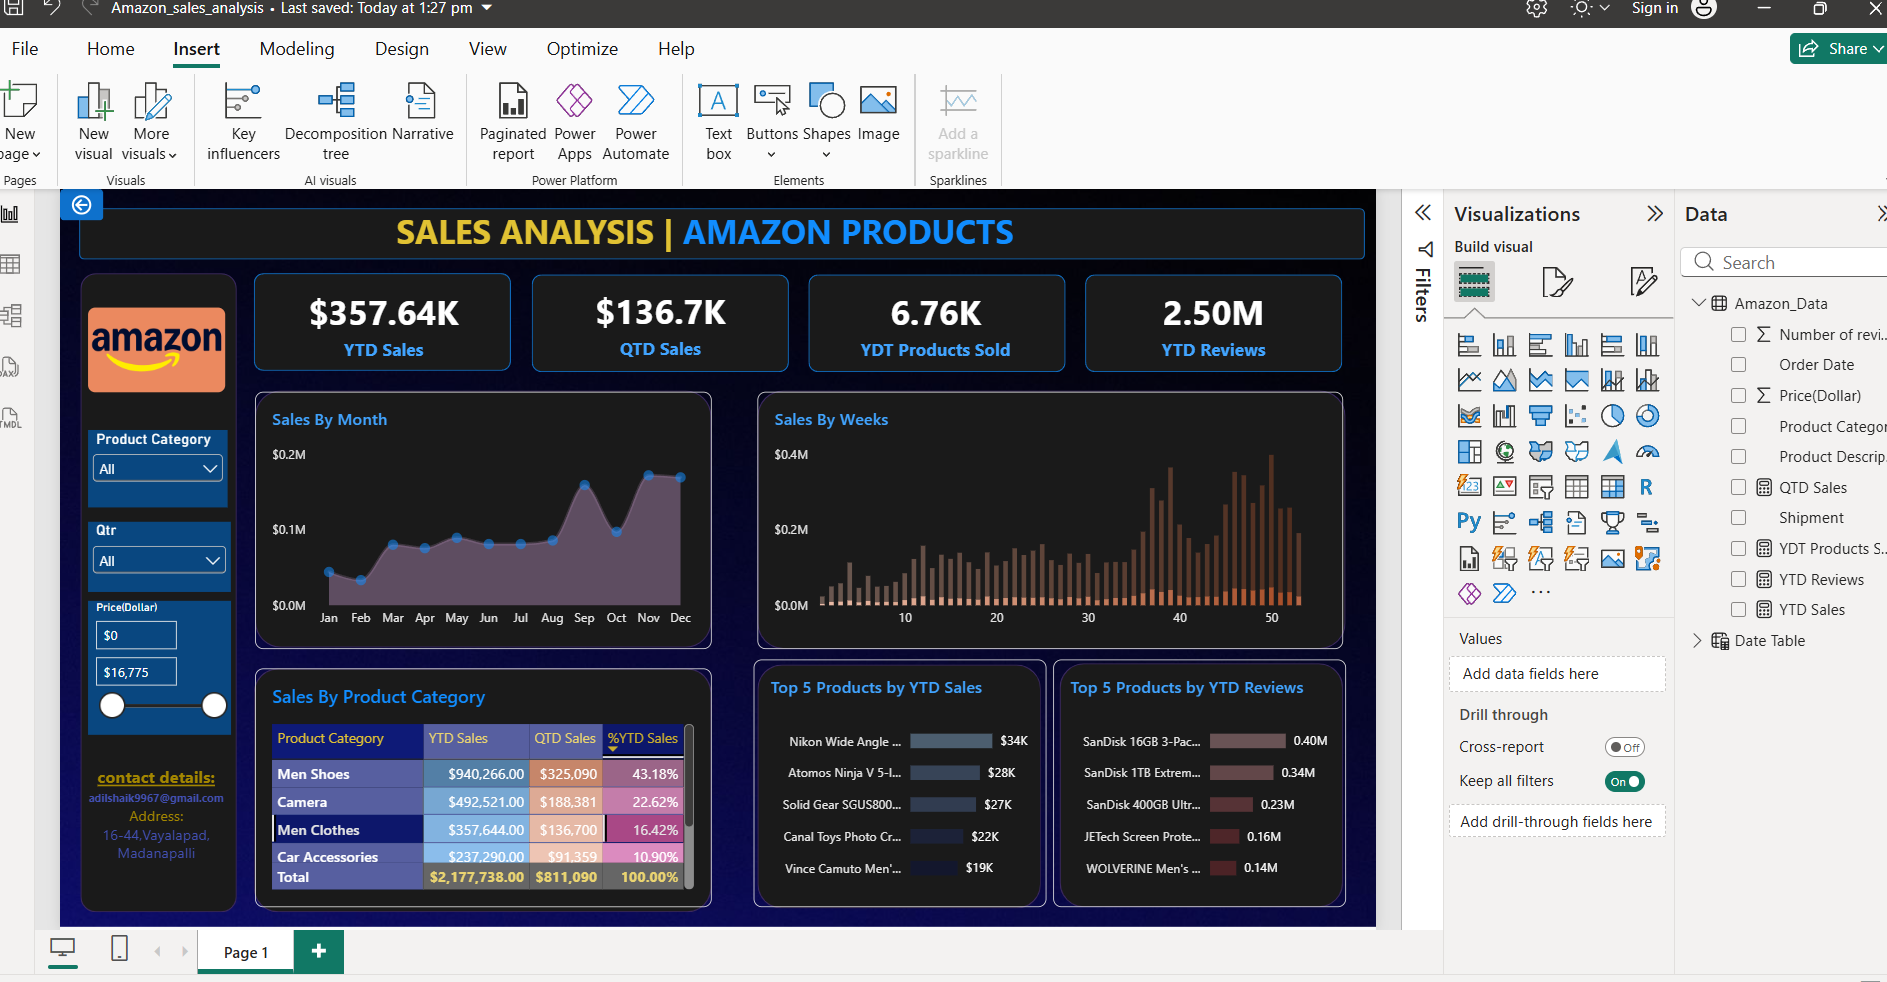

The page's visual inventory and layout, read from the dashboard file:
{"tool":"powerbi","page":{"name":"Page 1","canvas":[1280,720],"ordinal":0},"visuals":[{"type":"shape","box":[19.8,82.2,152,621.3],"z":0},{"type":"shape","box":[458.3,82.7,250,95],"z":1000},{"type":"shape","box":[18.7,18.7,1250,50],"z":2000},{"type":"shape","box":[188.9,82.1,250,95],"z":3000},{"type":"slicer","fields":{"Values":["Amazon_Data.Product Category"]},"box":[26.9,233.8,136,75.1],"z":4000},{"type":"textbox","box":[326.7,18.7,613.3,50.7],"z":5000},{"type":"card","fields":{"Values":["Amazon_Data.YTD Sales"]},"box":[189.5,82.7,250,94.9],"z":6000},{"type":"card","fields":{"Values":["Amazon_Data.QTD Sales"]},"box":[458.7,82.7,250,93.6],"z":7000},{"type":"shape","box":[727.7,82.7,250,95],"z":8000},{"type":"shape","box":[997.1,82.7,250,95],"z":9000},{"type":"card","fields":{"Values":["Amazon_Data.YDT Products Sold"]},"box":[726.6,82.7,250,94.9],"z":10000},{"type":"card","fields":{"Values":["Amazon_Data.YTD Reviews"]},"box":[997.1,82.7,250,94.9],"z":11000},{"type":"shape","box":[189.7,196.2,443.6,250],"z":12000},{"type":"areaChart","title":"Sales By Month","fields":{"Category":["Date Table.Month Name"],"Y":["Sum(Amazon_Data.Price(Dollar))"]},"box":[189.7,197.4,443.6,250],"z":13000},{"type":"shape","box":[678.2,196.2,571.8,251.3],"z":14000},{"type":"columnChart","title":"Sales By Weeks","fields":{"Category":["Date Table.Week"],"Y":["Sum(Amazon_Data.Price(Dollar))"]},"box":[678.2,197.4,569.2,250],"z":15000},{"type":"shape","box":[188.5,466.7,444.9,237.2],"z":16000},{"type":"pivotTable","title":"Sales By Product Category","fields":{"Rows":["Amazon_Data.Product Category"],"Values":["Amazon_Data.YTD Sales1","Amazon_Data.QTD Sales","Amazon_Data.YTD Sales"]},"box":[189.7,466.7,443.6,232.1],"z":17000},{"type":"shape","box":[678.2,462.8,275.6,237.2],"z":18000},{"type":"shape","box":[971.8,461.5,275.6,237.2],"z":19000},{"type":"clusteredBarChart","title":"Top 5 Products by YTD Sales","fields":{"Category":["Amazon_Data.Product Description"],"Y":["Amazon_Data.YTD Sales"]},"box":[674.4,457.7,284.6,241],"z":20000},{"type":"clusteredBarChart","title":"Top 5 Products by YTD Reviews","fields":{"Category":["Amazon_Data.Product Description"],"Y":["Amazon_Data.YTD Reviews"]},"box":[965.4,457.7,284.6,241],"z":21000},{"type":"actionButton","box":[0,0,42.3,30.8],"z":22000},{"type":"slicer","fields":{"Values":["Date Table.Qtr"]},"box":[26.9,323,138.8,68],"z":23000},{"type":"image","box":[26.9,114.8,133.2,82.2],"z":24000},{"type":"slicer","fields":{"Values":["Amazon_Data.Price(Dollar)"]},"box":[27.3,400.4,138.8,130.1],"z":24001},{"type":"textbox","box":[27.3,560.3,132.6,126.4],"z":24002}]}

Visuals, with their boxes on the page's 1280x720 design canvas (x1, y1, x2, y2). These are canvas units, not pixel positions in the 1887x982 screenshot, which may show the page scaled, cropped or inside an application window:
shape: {"x1": 20, "y1": 82, "x2": 172, "y2": 704}
shape: {"x1": 458, "y1": 83, "x2": 708, "y2": 178}
shape: {"x1": 19, "y1": 19, "x2": 1269, "y2": 69}
shape: {"x1": 189, "y1": 82, "x2": 439, "y2": 177}
slicer - Amazon_Data.Product Category: {"x1": 27, "y1": 234, "x2": 163, "y2": 309}
textbox: {"x1": 327, "y1": 19, "x2": 940, "y2": 69}
card - Amazon_Data.YTD Sales: {"x1": 190, "y1": 83, "x2": 440, "y2": 178}
card - Amazon_Data.QTD Sales: {"x1": 459, "y1": 83, "x2": 709, "y2": 176}
shape: {"x1": 728, "y1": 83, "x2": 978, "y2": 178}
shape: {"x1": 997, "y1": 83, "x2": 1247, "y2": 178}
card - Amazon_Data.YDT Products Sold: {"x1": 727, "y1": 83, "x2": 977, "y2": 178}
card - Amazon_Data.YTD Reviews: {"x1": 997, "y1": 83, "x2": 1247, "y2": 178}
shape: {"x1": 190, "y1": 196, "x2": 633, "y2": 446}
"Sales By Month" areaChart: {"x1": 190, "y1": 197, "x2": 633, "y2": 447}
shape: {"x1": 678, "y1": 196, "x2": 1250, "y2": 448}
"Sales By Weeks" columnChart: {"x1": 678, "y1": 197, "x2": 1247, "y2": 447}
shape: {"x1": 188, "y1": 467, "x2": 633, "y2": 704}
"Sales By Product Category" pivotTable: {"x1": 190, "y1": 467, "x2": 633, "y2": 699}
shape: {"x1": 678, "y1": 463, "x2": 954, "y2": 700}
shape: {"x1": 972, "y1": 462, "x2": 1247, "y2": 699}
"Top 5 Products by YTD Sales" clusteredBarChart: {"x1": 674, "y1": 458, "x2": 959, "y2": 699}
"Top 5 Products by YTD Reviews" clusteredBarChart: {"x1": 965, "y1": 458, "x2": 1250, "y2": 699}
actionButton: {"x1": 0, "y1": 0, "x2": 42, "y2": 31}
slicer - Date Table.Qtr: {"x1": 27, "y1": 323, "x2": 166, "y2": 391}
image: {"x1": 27, "y1": 115, "x2": 160, "y2": 197}
slicer - Amazon_Data.Price(Dollar): {"x1": 27, "y1": 400, "x2": 166, "y2": 530}
textbox: {"x1": 27, "y1": 560, "x2": 160, "y2": 687}
